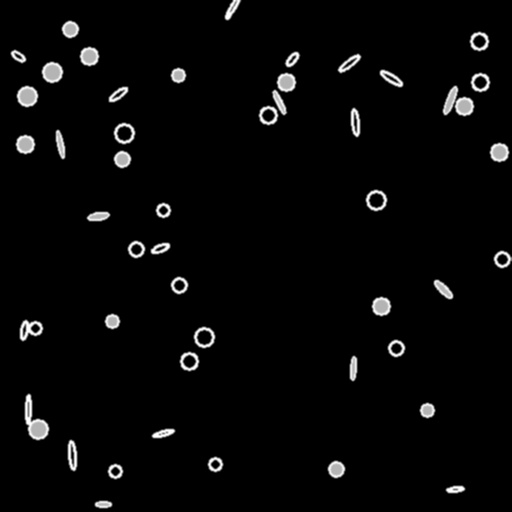pseudomonas: (337, 53, 361, 73), (442, 85, 458, 115), (379, 69, 403, 87), (433, 279, 453, 299), (271, 90, 287, 114), (224, 0, 242, 20), (108, 86, 128, 102), (284, 50, 300, 68), (67, 441, 77, 469), (55, 130, 65, 158), (10, 49, 26, 63), (351, 108, 359, 136), (151, 242, 169, 254), (153, 428, 173, 438), (88, 211, 108, 221), (25, 395, 31, 423), (20, 320, 28, 340), (350, 357, 356, 379), (447, 485, 463, 493), (95, 501, 111, 507)
synechocystis: (18, 87, 36, 105), (43, 63, 61, 81), (367, 191, 385, 209), (115, 124, 133, 142), (195, 328, 213, 346), (29, 420, 47, 438), (81, 48, 97, 64), (17, 136, 33, 152), (471, 33, 487, 49), (260, 107, 276, 123), (373, 298, 389, 314), (472, 74, 488, 90), (491, 144, 507, 160), (456, 98, 472, 114), (278, 74, 294, 90), (181, 353, 197, 369), (495, 252, 509, 266), (129, 242, 143, 256), (172, 278, 186, 292), (389, 341, 403, 355), (115, 152, 129, 166), (63, 22, 77, 36), (329, 462, 343, 476), (172, 69, 184, 81), (209, 458, 221, 470), (29, 322, 41, 334), (109, 465, 121, 477), (157, 204, 169, 216), (421, 404, 433, 416), (106, 315, 118, 327)
